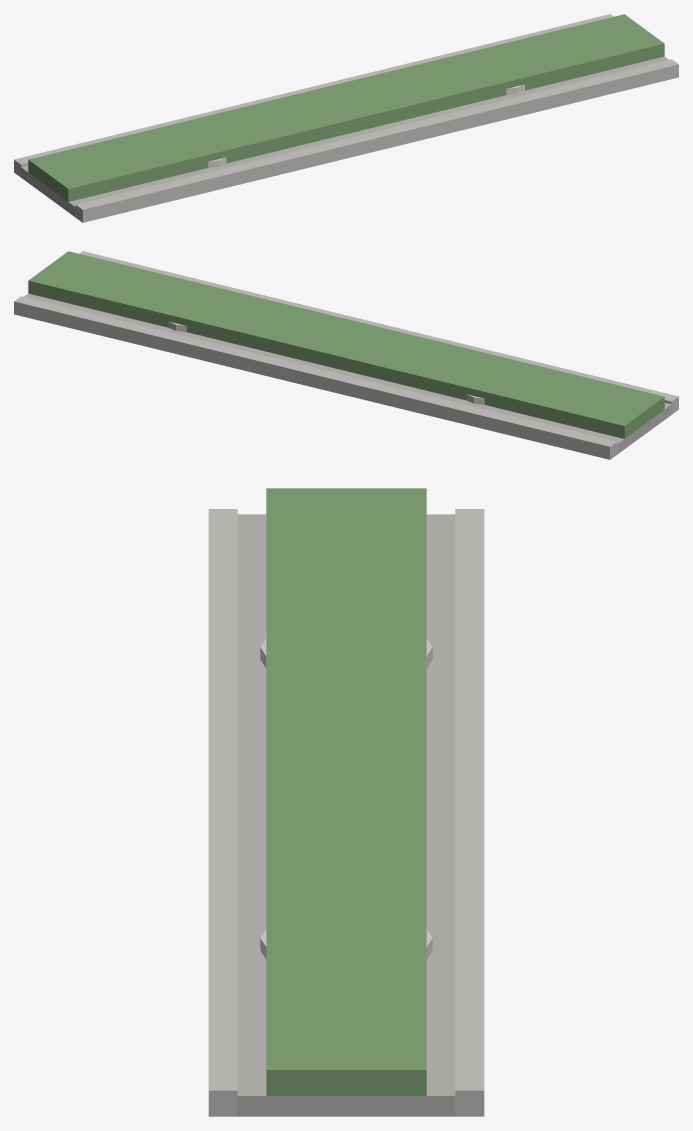
The model's file is road_divider_median.glb.
3 views of the same model, one above another, from view 1: azimuth 30°, elevation 25°; view 2: azimuth 150°, elevation 25°; view 3: azimuth 270°, elevation 25° (orthographic). The views are drawn at different scales.
Visible parts, largest first — view 1: road_divider_median; view 2: road_divider_median; view 3: road_divider_median.
Part boxes in pixels (x1=…): road_divider_median: x1=14, y1=14, x2=678, y2=222; road_divider_median: x1=14, y1=251, x2=678, y2=459; road_divider_median: x1=208, y1=488, x2=484, y2=1116.
Bounding box in the file's own units: 12 × 0.45 × 2.4.
